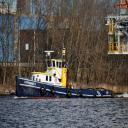tugboat: (16, 43, 118, 103)
